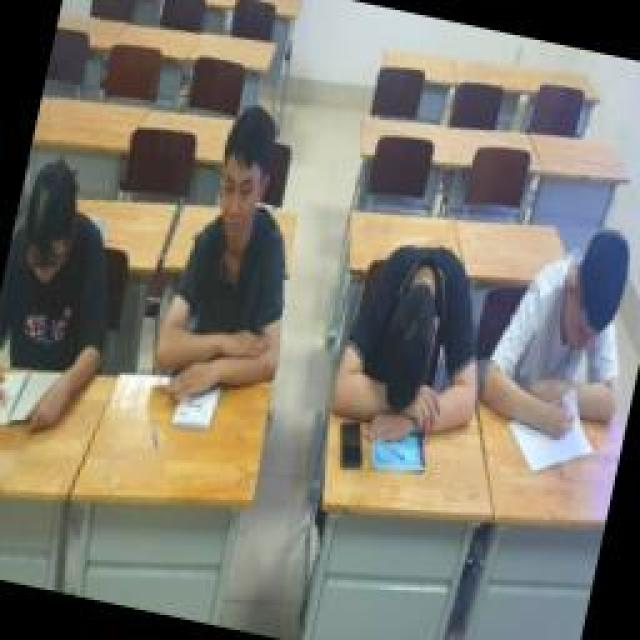sleep: (318, 230, 508, 462)
study: (145, 95, 327, 420), (472, 210, 640, 455), (0, 158, 138, 438)
